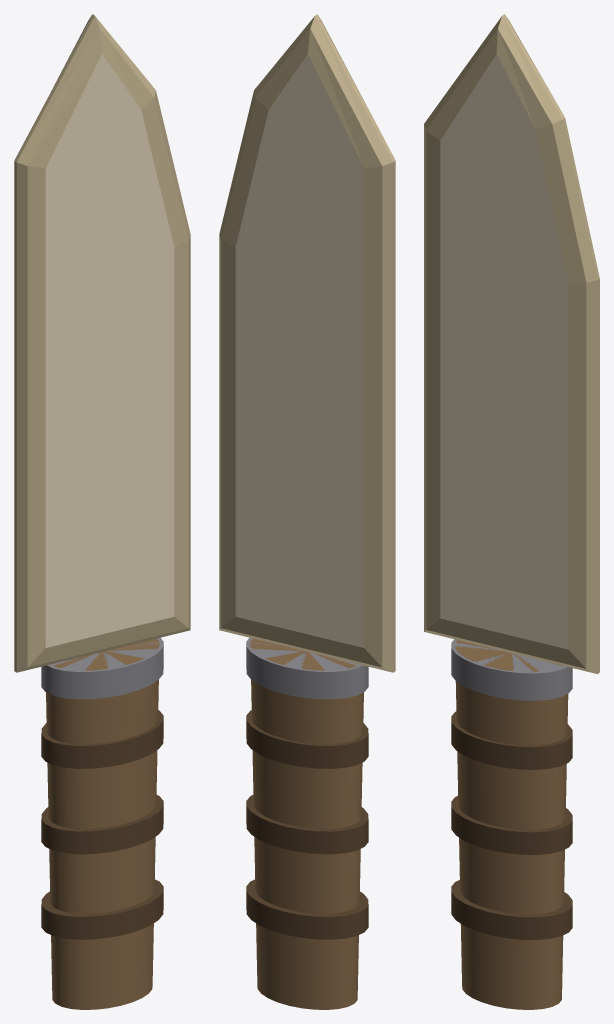
Rendered from 07_Common_Bone_Knife.glb.
3 renders of one model, left to right at view 1: azimuth 30°, elevation 25°; view 2: azimuth 150°, elevation 25°; view 3: azimuth 330°, elevation 25°, orthographic.
Visible parts, largest first — view 1: blade_0, handle_1, ferrule_5, handle_band_4, handle_band_3, handle_band_2; view 2: blade_0, handle_1, ferrule_5, handle_band_4, handle_band_3, handle_band_2; view 3: blade_0, handle_1, ferrule_5, handle_band_4, handle_band_3, handle_band_2.
Part boxes in pixels (x1=…): blade_0: x1=14, y1=14, x2=190, y2=672; handle_1: x1=46, y1=638, x2=159, y2=1009; ferrule_5: x1=41, y1=637, x2=163, y2=699; handle_band_4: x1=41, y1=879, x2=163, y2=939; handle_band_3: x1=41, y1=795, x2=163, y2=854; handle_band_2: x1=41, y1=710, x2=163, y2=768; blade_0: x1=219, y1=14, x2=395, y2=672; handle_1: x1=250, y1=638, x2=363, y2=1009; ferrule_5: x1=246, y1=637, x2=368, y2=699; handle_band_4: x1=246, y1=879, x2=368, y2=939; handle_band_3: x1=246, y1=795, x2=368, y2=854; handle_band_2: x1=246, y1=710, x2=368, y2=768; blade_0: x1=424, y1=14, x2=599, y2=673; handle_1: x1=455, y1=640, x2=568, y2=1009; ferrule_5: x1=451, y1=639, x2=572, y2=700; handle_band_4: x1=451, y1=880, x2=572, y2=939; handle_band_3: x1=451, y1=796, x2=572, y2=854; handle_band_2: x1=451, y1=711, x2=572, y2=769.
Bounding box in the file's own units: 0.08 × 0.43 × 0.0356.
5 materials, 5 textured.
